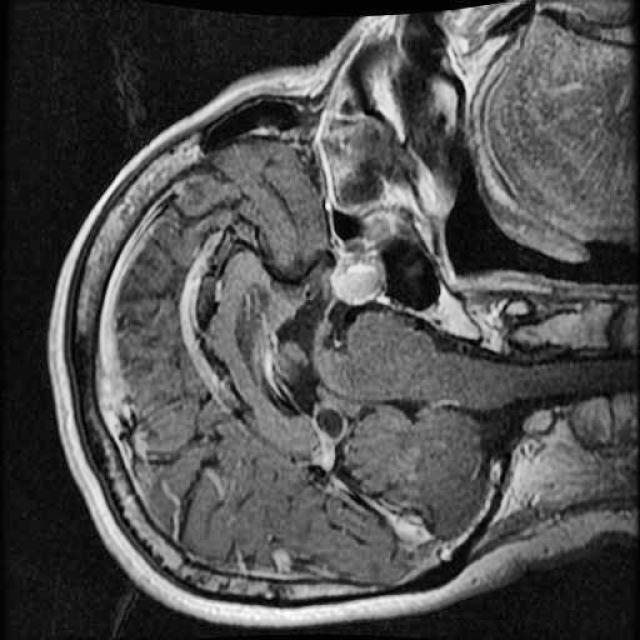Tumor: (319, 246, 394, 316)
